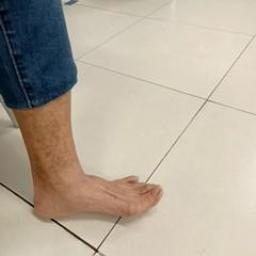Medial View -Left Foot-: (12, 149, 181, 235)
